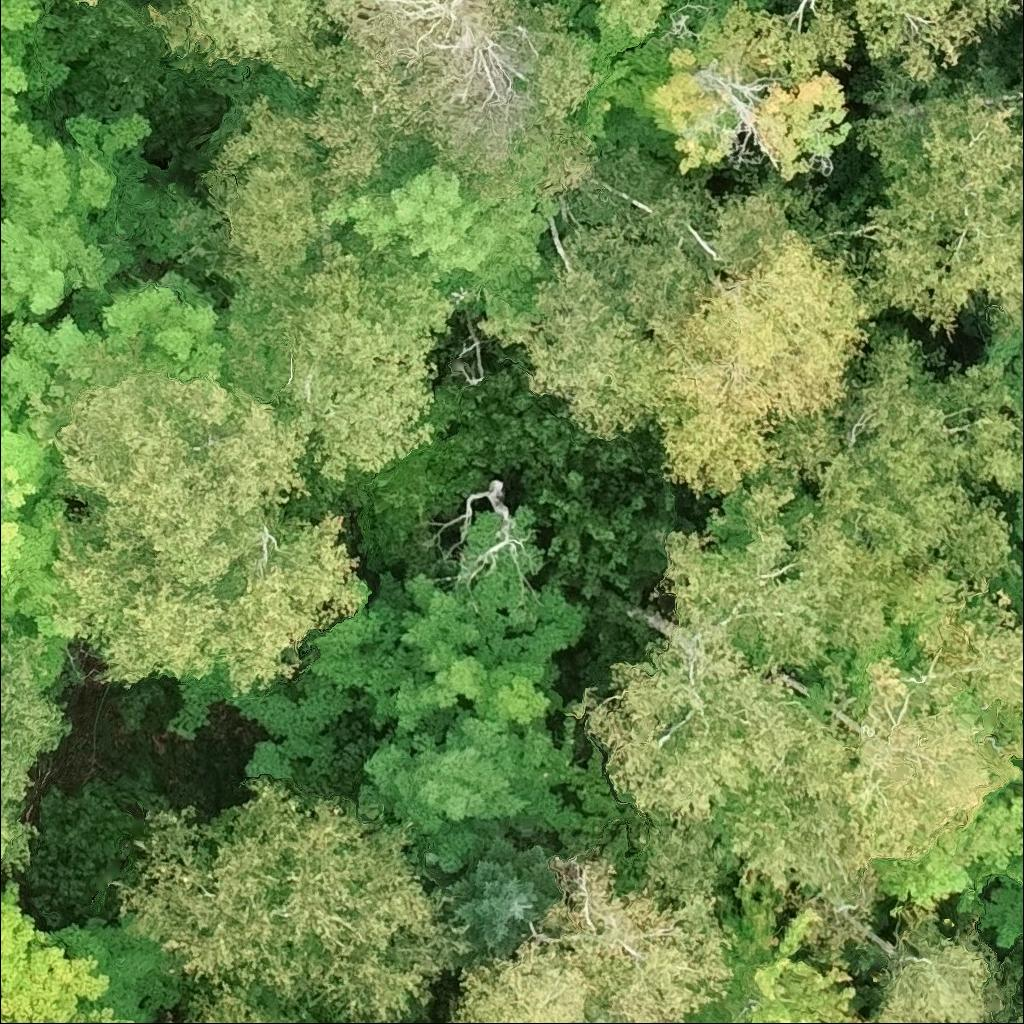crown: (581, 480, 1023, 956), (478, 175, 883, 499), (114, 777, 479, 1023), (772, 323, 1023, 576), (315, 0, 611, 207), (52, 363, 312, 587), (301, 543, 590, 734), (259, 227, 461, 484), (443, 851, 741, 1023), (344, 706, 616, 886), (838, 83, 1023, 337), (197, 91, 432, 287), (0, 314, 101, 692), (322, 158, 561, 316), (0, 106, 161, 326), (199, 511, 375, 705), (44, 517, 221, 691), (876, 755, 1023, 954), (687, 883, 882, 1023), (723, 0, 1023, 86), (146, 0, 350, 104), (0, 612, 77, 874), (863, 904, 1020, 1023), (0, 879, 119, 1023), (436, 837, 564, 967), (641, 40, 740, 175), (754, 67, 851, 179), (0, 0, 72, 115), (188, 981, 334, 1023), (982, 325, 1023, 407), (589, 0, 667, 41), (957, 691, 1023, 738), (688, 0, 736, 22), (0, 829, 22, 861), (1012, 493, 1023, 547), (93, 1014, 155, 1023), (73, 0, 110, 10), (1005, 1006, 1023, 1023), (747, 0, 767, 8), (1019, 102, 1023, 110), (0, 340, 4, 344)
